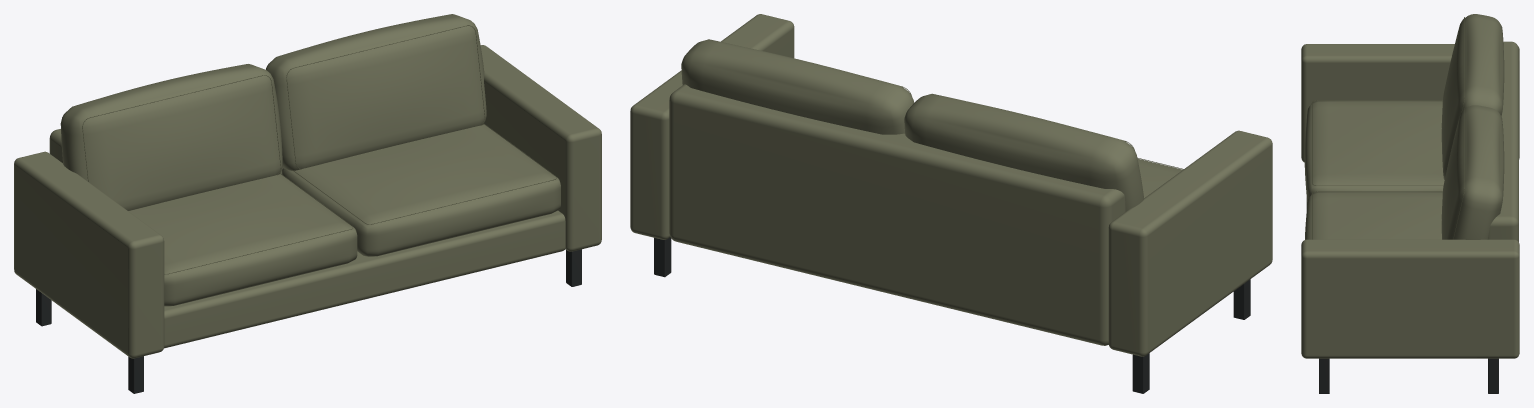
Rendered from forma-sofa-olive.glb.
3 renders of one model, left to right at view 1: azimuth 30°, elevation 25°; view 2: azimuth 150°, elevation 25°; view 3: azimuth 270°, elevation 25°, orthographic. The views are drawn at different scales.
Parts seen in each view (by area): view 1: Right Back Cushion.001, Left Back Cushion.001, Right Seat Cushion.001, Left Arm.001, Left Seat Cushion.001, Base Upholstered Rail.001, Right Arm.001, Left Front Steel Leg.001, Right Front Steel Leg.001; view 2: Rear Upholstered Panel.001, Left Arm.001, Left Back Cushion.001, Right Back Cushion.001, Right Arm.001, Left Seat Cushion.001, Left Rear Steel Leg.001, Right Rear Steel Leg.001, Left Front Steel Leg.001; view 3: Right Arm.001, Left Seat Cushion.001, Left Arm.001, Right Back Cushion.001, Right Seat Cushion.001, Left Back Cushion.001, Rear Upholstered Panel.001, Right Front Steel Leg.001, Right Rear Steel Leg.001, Left Seat Cushion_Piping.001.
Part boxes in pixels (x1=…): Right Back Cushion.001: x1=266, y1=14, x2=486, y2=170; Left Back Cushion.001: x1=60, y1=64, x2=282, y2=210; Right Seat Cushion.001: x1=282, y1=124, x2=560, y2=256; Left Arm.001: x1=14, y1=151, x2=164, y2=358; Left Seat Cushion.001: x1=128, y1=174, x2=357, y2=306; Base Upholstered Rail.001: x1=164, y1=210, x2=565, y2=348; Right Arm.001: x1=480, y1=45, x2=601, y2=251; Left Front Steel Leg.001: x1=128, y1=356, x2=143, y2=393; Right Front Steel Leg.001: x1=566, y1=249, x2=581, y2=286; Rear Upholstered Panel.001: x1=669, y1=84, x2=1125, y2=345; Left Arm.001: x1=1108, y1=130, x2=1272, y2=356; Left Back Cushion.001: x1=904, y1=93, x2=1144, y2=211; Right Back Cushion.001: x1=681, y1=39, x2=914, y2=134; Right Arm.001: x1=630, y1=14, x2=794, y2=239; Left Seat Cushion.001: x1=1137, y1=159, x2=1182, y2=197; Left Rear Steel Leg.001: x1=1132, y1=353, x2=1149, y2=393; Right Rear Steel Leg.001: x1=654, y1=237, x2=671, y2=277; Left Front Steel Leg.001: x1=1233, y1=279, x2=1250, y2=319; Right Arm.001: x1=1301, y1=239, x2=1519, y2=358; Left Seat Cushion.001: x1=1304, y1=100, x2=1444, y2=201; Left Arm.001: x1=1301, y1=44, x2=1519, y2=162; Right Back Cushion.001: x1=1441, y1=105, x2=1504, y2=239; Right Seat Cushion.001: x1=1305, y1=191, x2=1442, y2=239; Left Back Cushion.001: x1=1441, y1=14, x2=1504, y2=179; Rear Upholstered Panel.001: x1=1487, y1=41, x2=1518, y2=241; Right Front Steel Leg.001: x1=1319, y1=358, x2=1329, y2=393; Right Rear Steel Leg.001: x1=1488, y1=358, x2=1498, y2=393; Left Seat Cushion_Piping.001: x1=1312, y1=100, x2=1443, y2=185.
Bounding box in the file's own units: 2.2 × 0.9626 × 0.96.
